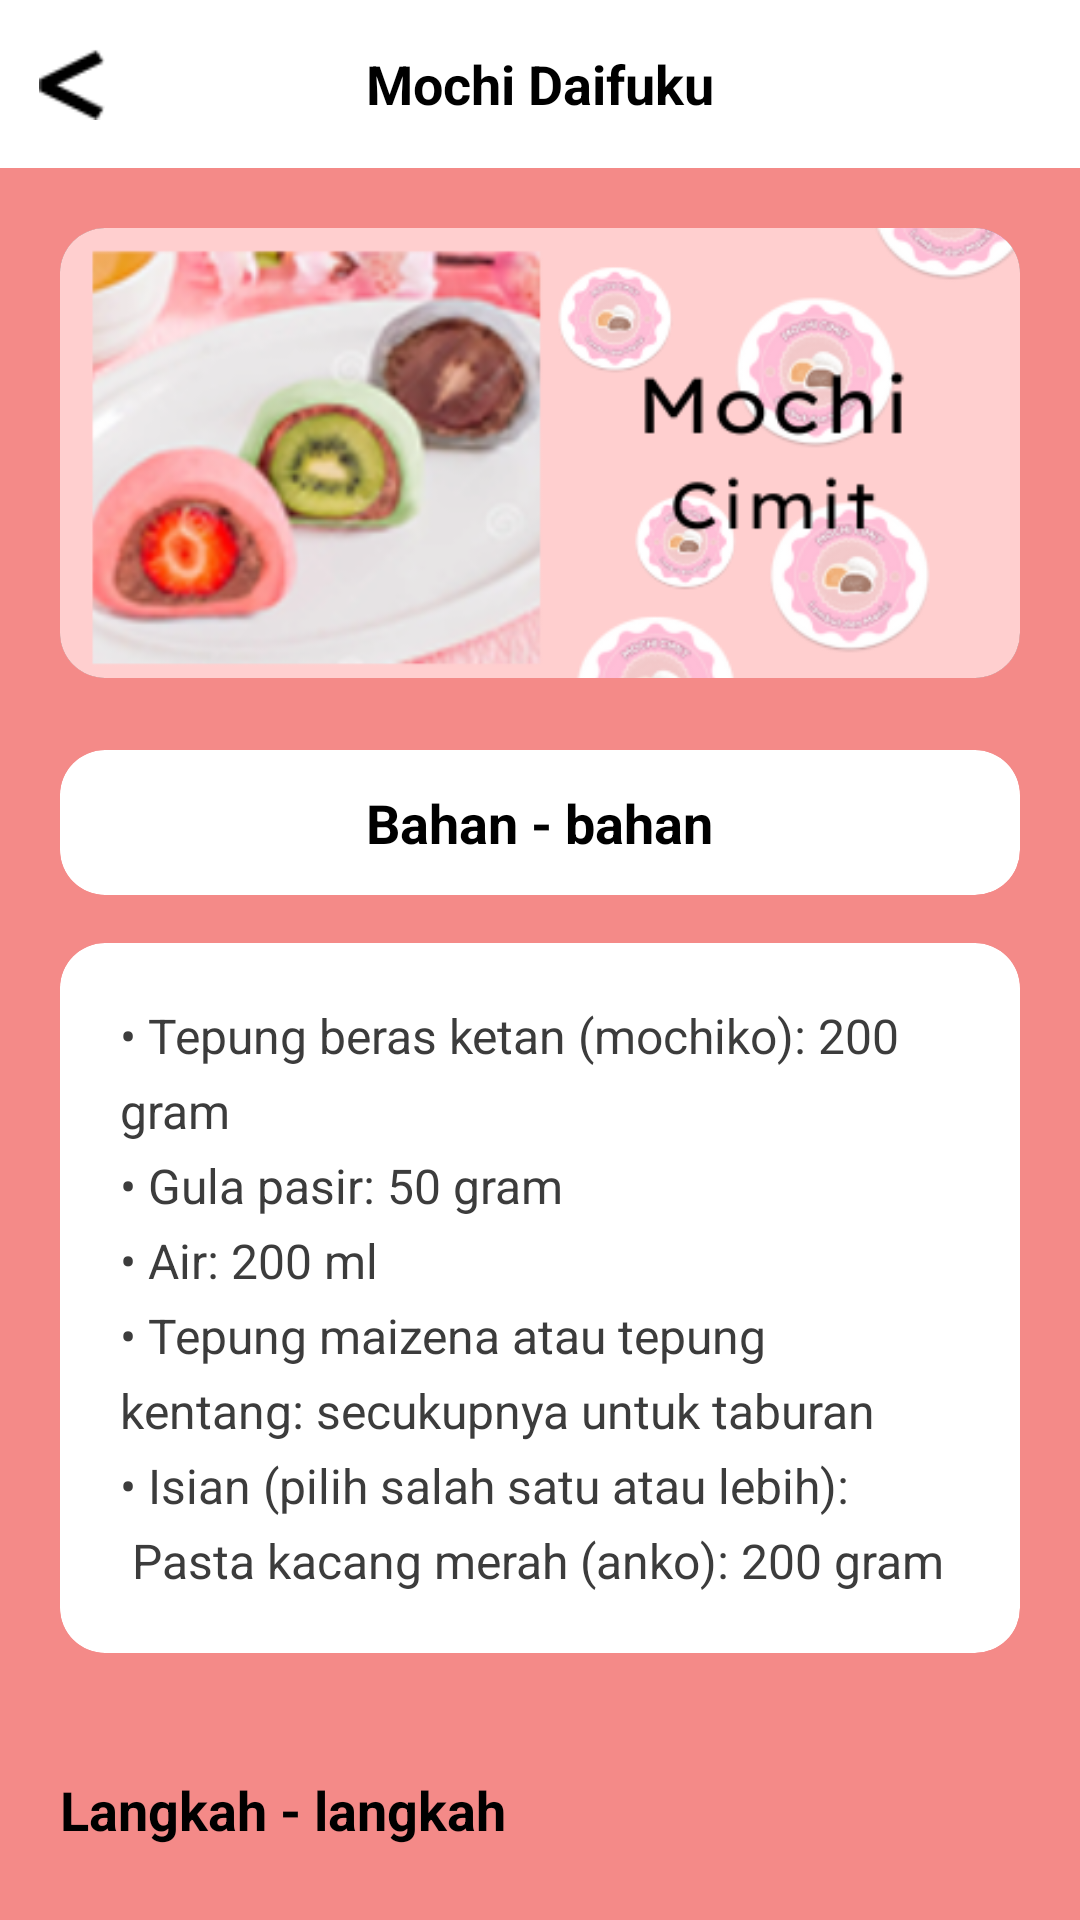

Icon click points for this 1080px x 1920px phone screenshot, format (x,y):
Kembali: (71,85)
